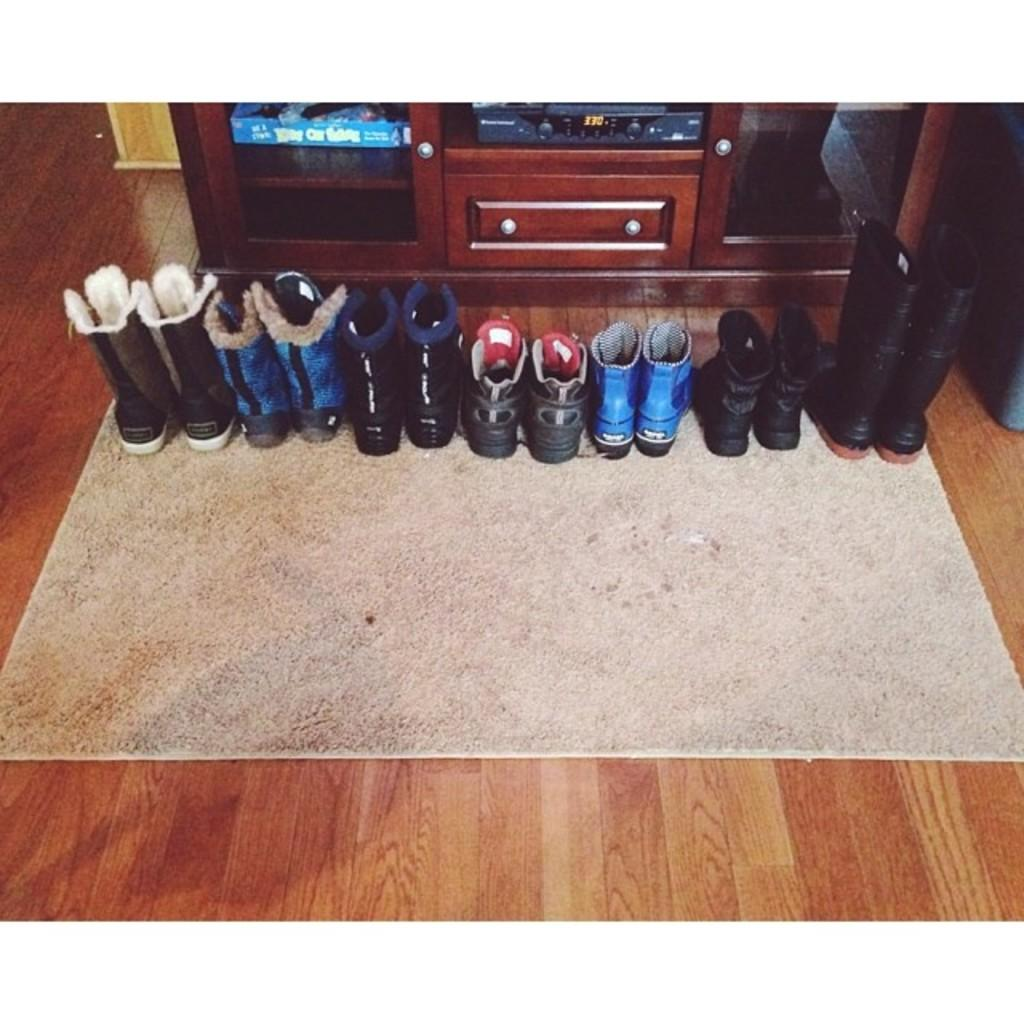cabinet_door: (190, 111, 444, 240), (460, 168, 694, 263), (710, 106, 850, 260)
handle: (710, 130, 738, 176), (408, 130, 435, 170), (626, 206, 648, 249), (498, 204, 520, 244)
